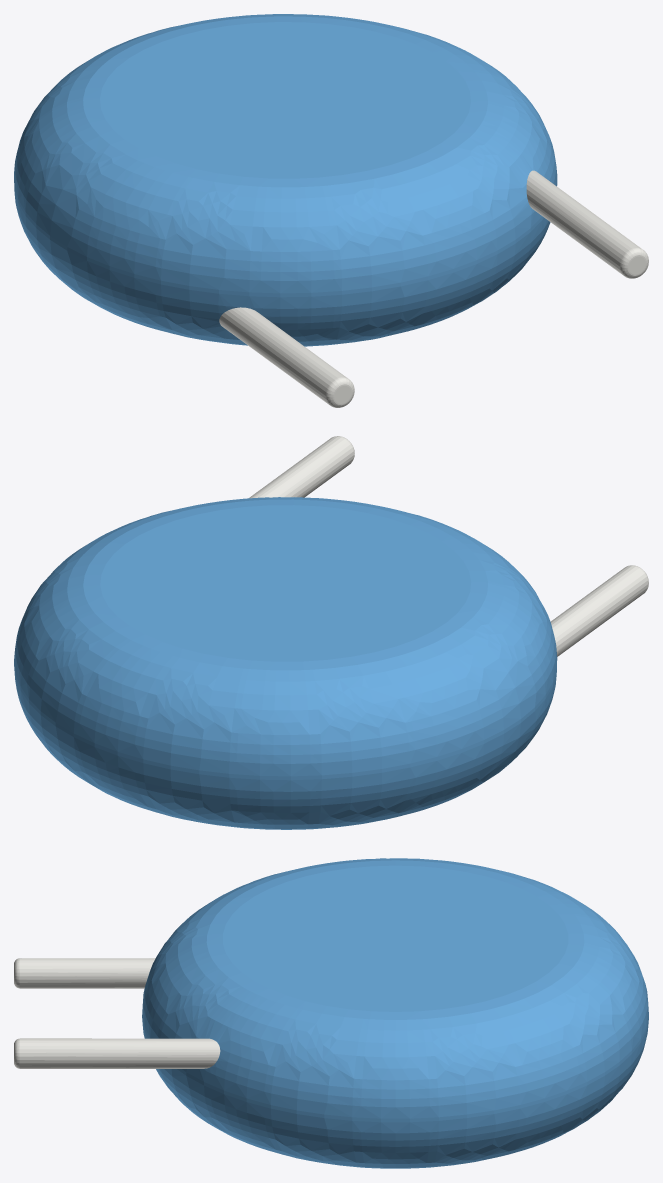
Rendered from RV_Disc_D12mm_W3.9mm_P7.5mm.glb.
3 renders of one model, top to bottom at view 1: azimuth 30°, elevation 25°; view 2: azimuth 150°, elevation 25°; view 3: azimuth 270°, elevation 25°, orthographic. The views are drawn at different scales.
Visible parts, largest first — view 1: Shape_IndexedFaceSet.001, Shape_IndexedFaceSet.003, Shape_IndexedFaceSet.002, Shape_IndexedFaceSet.006, Shape_IndexedFaceSet.004, Shape_IndexedFaceSet; view 2: Shape_IndexedFaceSet.001, Shape_IndexedFaceSet.003, Shape_IndexedFaceSet.002, Shape_IndexedFaceSet.006, Shape_IndexedFaceSet.004, Shape_IndexedFaceSet; view 3: Shape_IndexedFaceSet.001, Shape_IndexedFaceSet.003, Shape_IndexedFaceSet.002, Shape_IndexedFaceSet.004, Shape_IndexedFaceSet.006, Shape_IndexedFaceSet.
Boxes of the visible parts, x1,y1,x2,y2 form: Shape_IndexedFaceSet.001: (14, 14, 557, 293); Shape_IndexedFaceSet.003: (100, 22, 470, 178); Shape_IndexedFaceSet.002: (14, 184, 557, 346); Shape_IndexedFaceSet.006: (219, 307, 347, 404); Shape_IndexedFaceSet.004: (526, 170, 641, 274); Shape_IndexedFaceSet: (14, 179, 557, 297); Shape_IndexedFaceSet.001: (14, 497, 557, 776); Shape_IndexedFaceSet.003: (100, 505, 471, 661); Shape_IndexedFaceSet.002: (14, 666, 556, 829); Shape_IndexedFaceSet.006: (550, 565, 647, 656); Shape_IndexedFaceSet.004: (249, 436, 353, 498); Shape_IndexedFaceSet: (14, 657, 557, 780); Shape_IndexedFaceSet.001: (142, 858, 648, 1118); Shape_IndexedFaceSet.003: (223, 865, 568, 1011); Shape_IndexedFaceSet.002: (142, 1019, 648, 1168); Shape_IndexedFaceSet.004: (20, 1038, 220, 1068); Shape_IndexedFaceSet.006: (20, 958, 155, 988); Shape_IndexedFaceSet: (142, 1015, 648, 1122).
Size of the model in its own units: 4.72 by 1.54 by 5.92.
